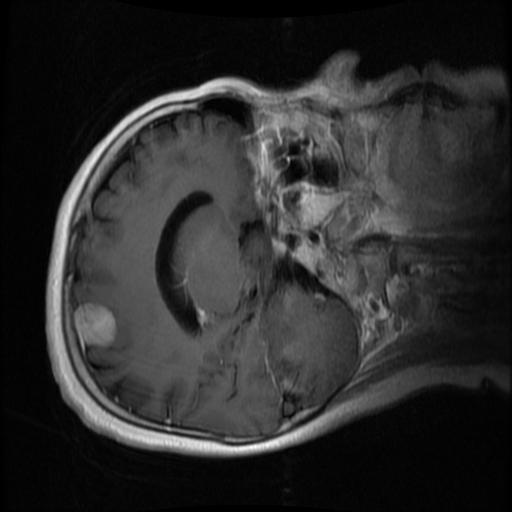meningioma: (73, 301, 117, 348)
